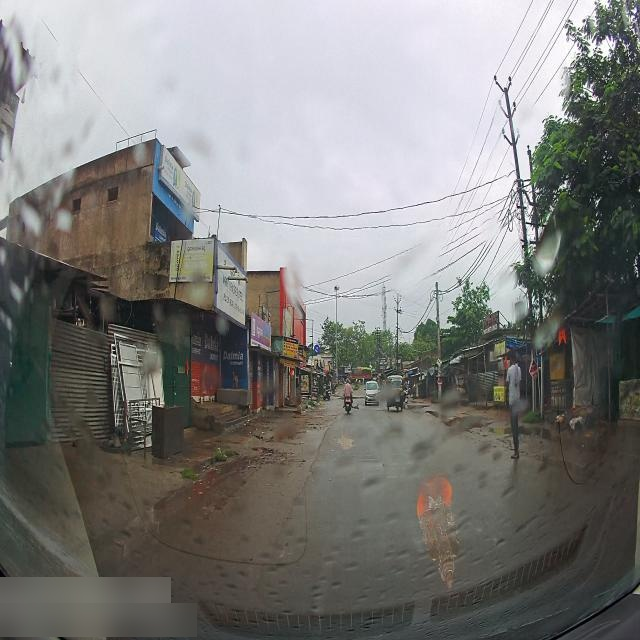pothole: (520, 426, 547, 442), (451, 418, 472, 434), (487, 428, 510, 441), (254, 444, 274, 456), (430, 410, 448, 420), (408, 405, 428, 413)
